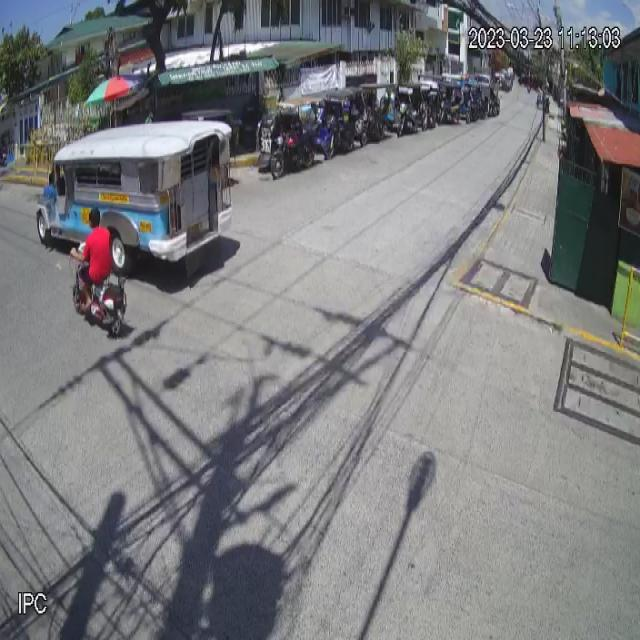Jeep: (36, 121, 234, 277)
